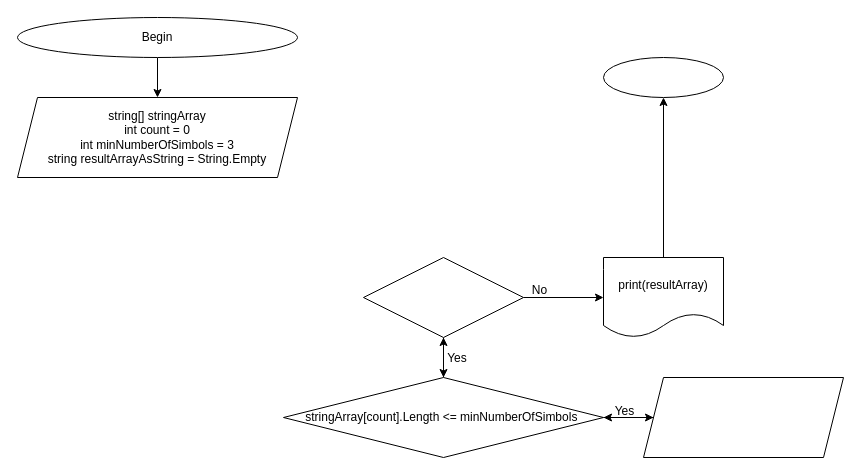
Some shapes in this 861 by 475 pixel diagram are drawn without their labels. Here are the shapes that lost their labels. From the top down, the centre of each, then its label:
the point at 663,77: End
the point at 443,297: count < stringArray.Length
